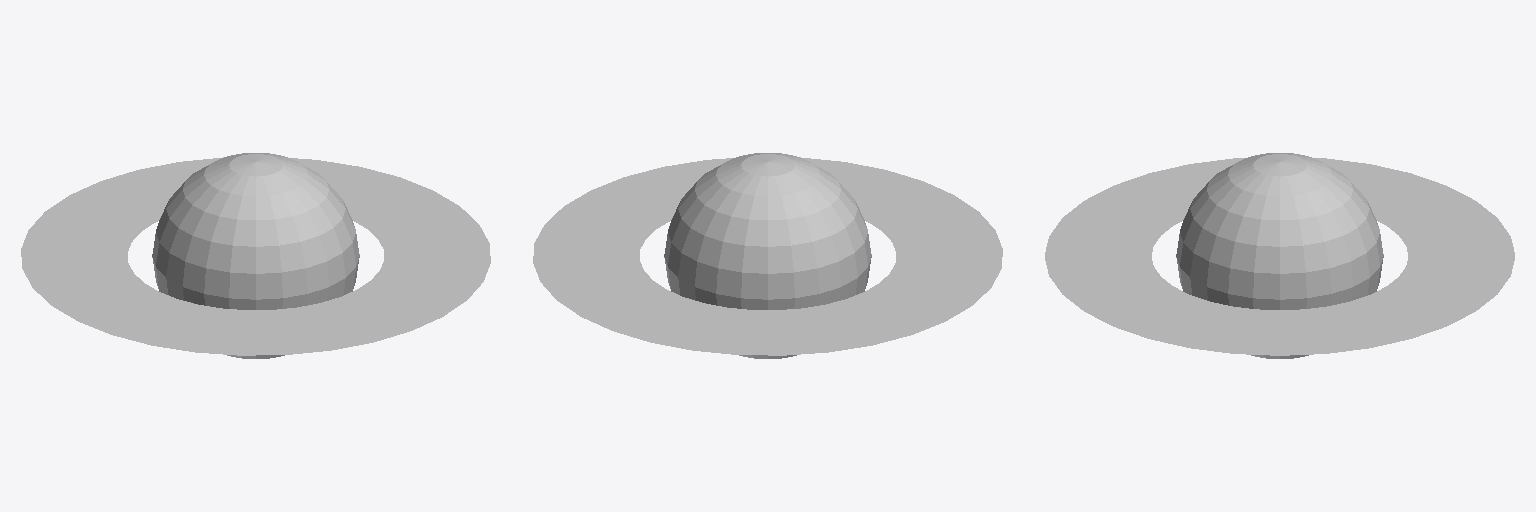
File: Saturn_KCL.obj
3 views of the same model, side by side, from view 1: azimuth 30°, elevation 25°; view 2: azimuth 150°, elevation 25°; view 3: azimuth 270°, elevation 25° (orthographic).
Parts seen in each view (by area): view 1: ROAD, WALL; view 2: ROAD, WALL; view 3: ROAD, WALL.
Part boxes in pixels (x1,y1,x2,y2): ROAD: (21,157,490,354); WALL: (21,153,489,358); ROAD: (533,157,1002,354); WALL: (534,153,1002,358); ROAD: (1045,158,1514,355); WALL: (1045,153,1514,358).
Bounding box in the file's own units: 415 × 183 × 415.